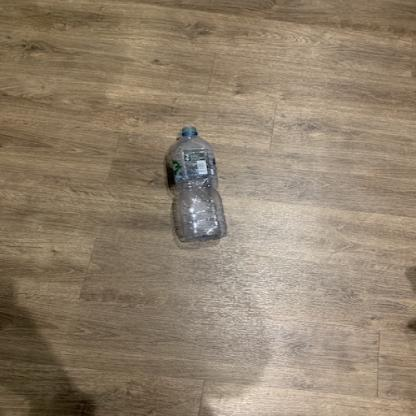trash: (163, 124, 224, 243)
